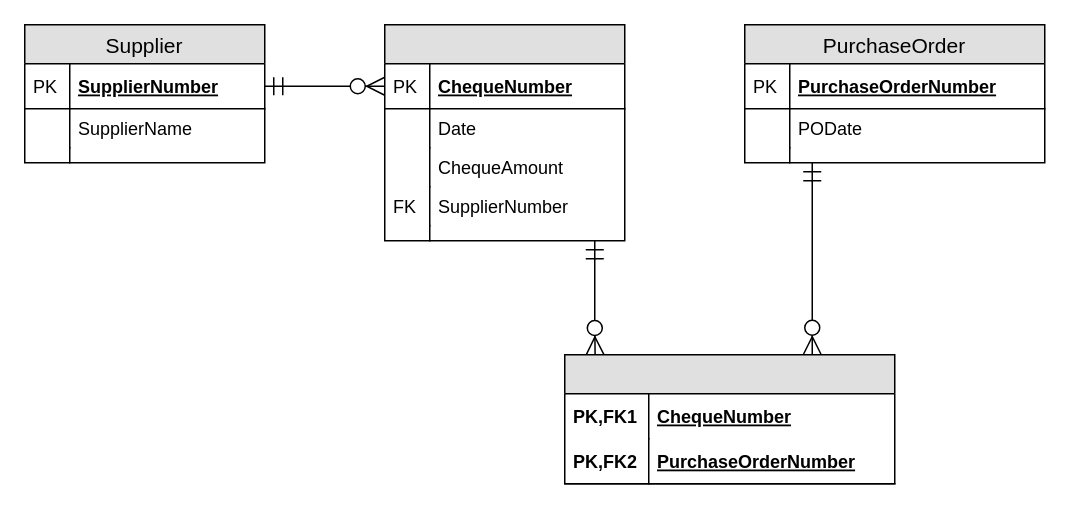
Some shapes in this 1070 by 509 pixel diagram are drawn without their labels. Each missing label, with the box of its shape:
ChequeRegister: (383, 23, 625, 241)
Table: (563, 353, 895, 484)
